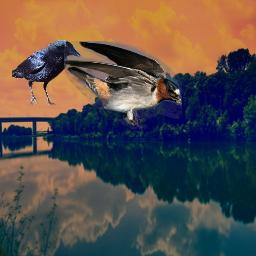Crow: (12, 40, 81, 106)
Swallow: (64, 41, 182, 129)
